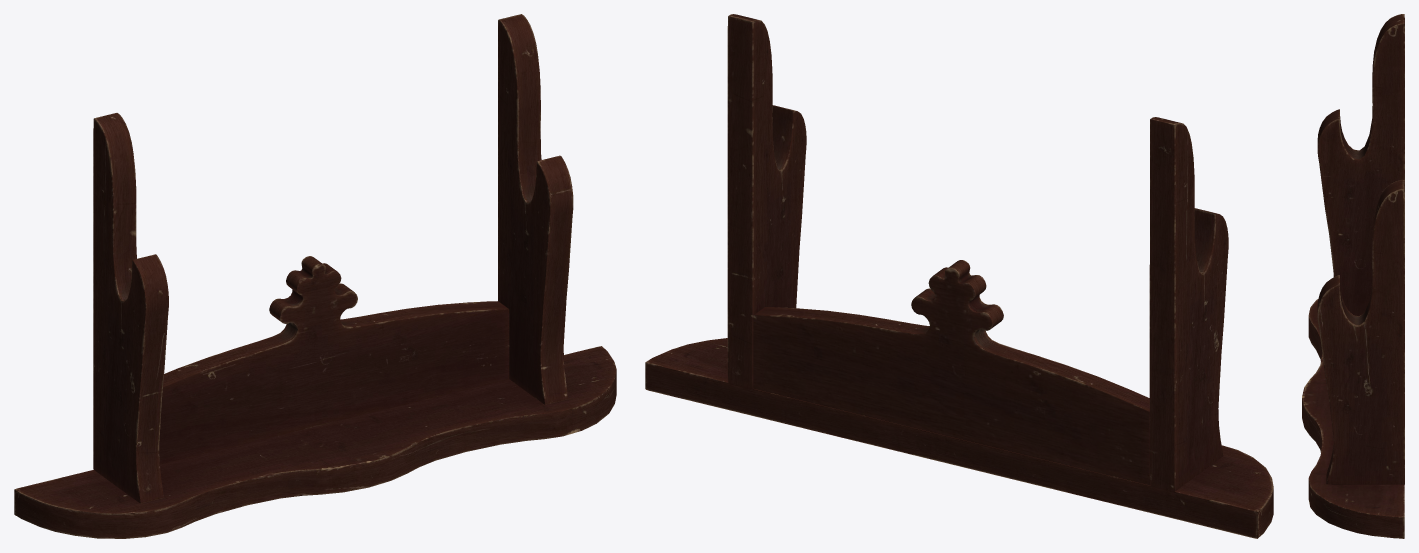
The model's file is katana_stand_01_2k.fbx.
The picture shows the model from 3 angles, left to right: view 1: azimuth 30°, elevation 25°; view 2: azimuth 150°, elevation 25°; view 3: azimuth 270°, elevation 25°; orthographic projection. The views are drawn at different scales.
Parts seen in each view (by area): view 1: katana_stand_01; view 2: katana_stand_01; view 3: katana_stand_01.
Boxes of the visible parts, x1=… form: katana_stand_01: x1=14, y1=14, x2=616, y2=538; katana_stand_01: x1=645, y1=14, x2=1273, y2=538; katana_stand_01: x1=1302, y1=14, x2=1404, y2=538.
Bounding box in the file's own units: 29.58 × 18.19 × 5.35.
Materials: 1 (1 with a texture image).
